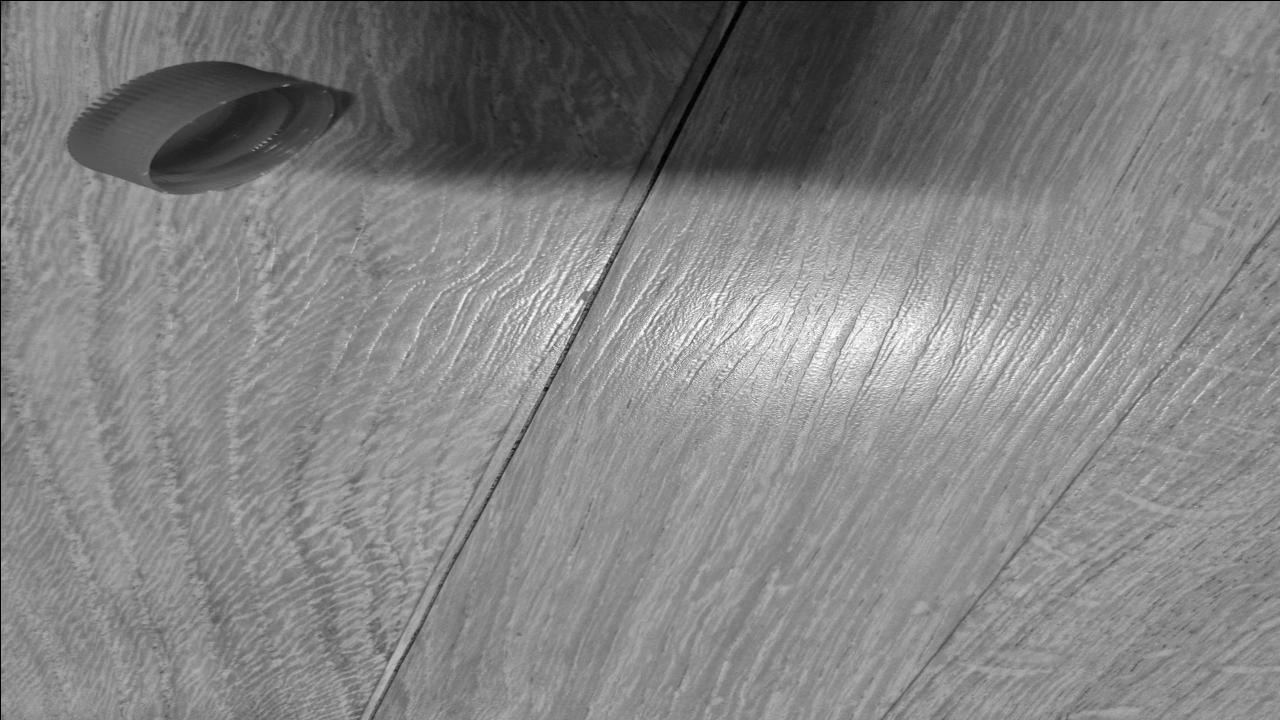bottle_cap: (57, 60, 338, 198)
